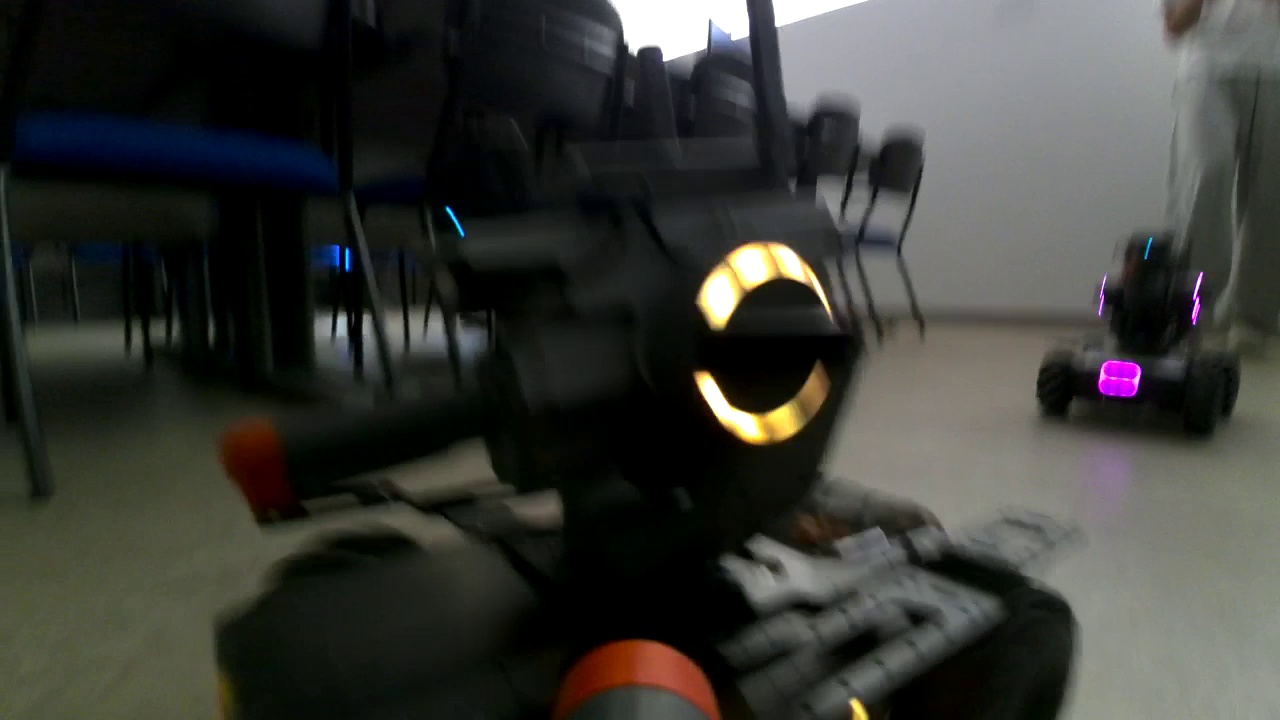robot: (217, 157, 1070, 720), (1039, 237, 1241, 437)
